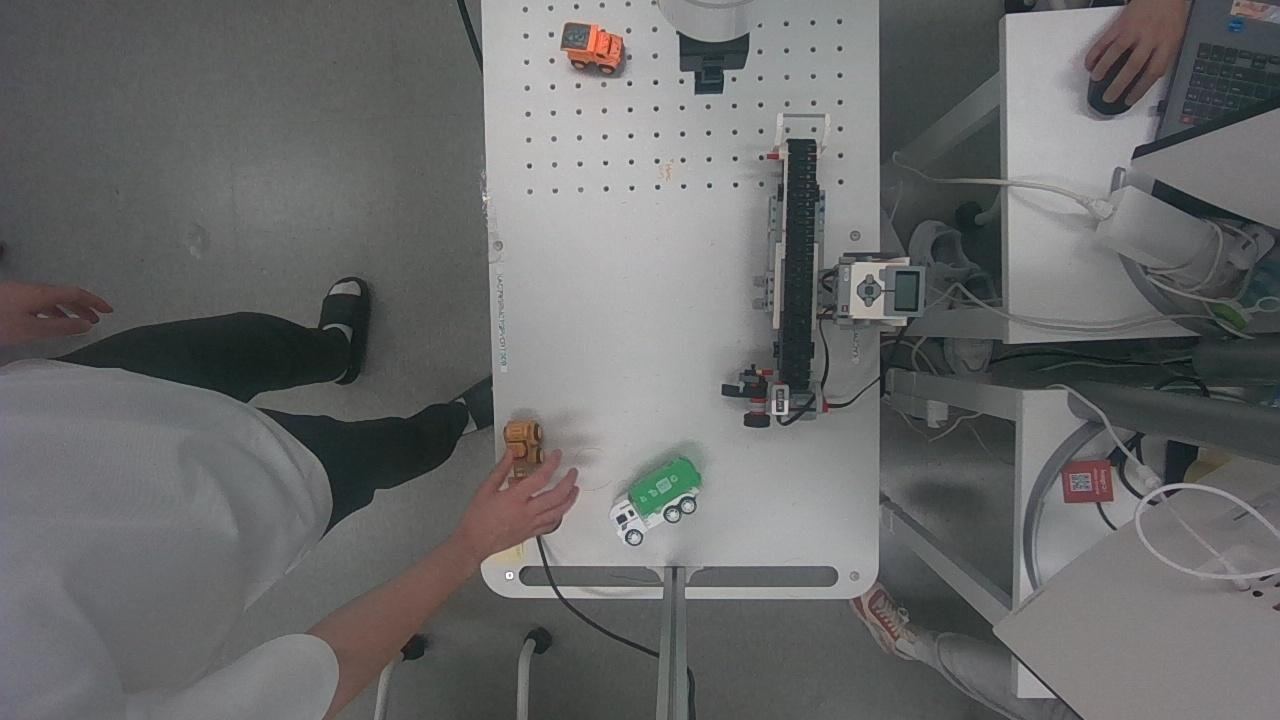green_car: (606, 452, 705, 548)
orange_car: (558, 18, 628, 80)
yellow_car: (494, 413, 544, 482)
